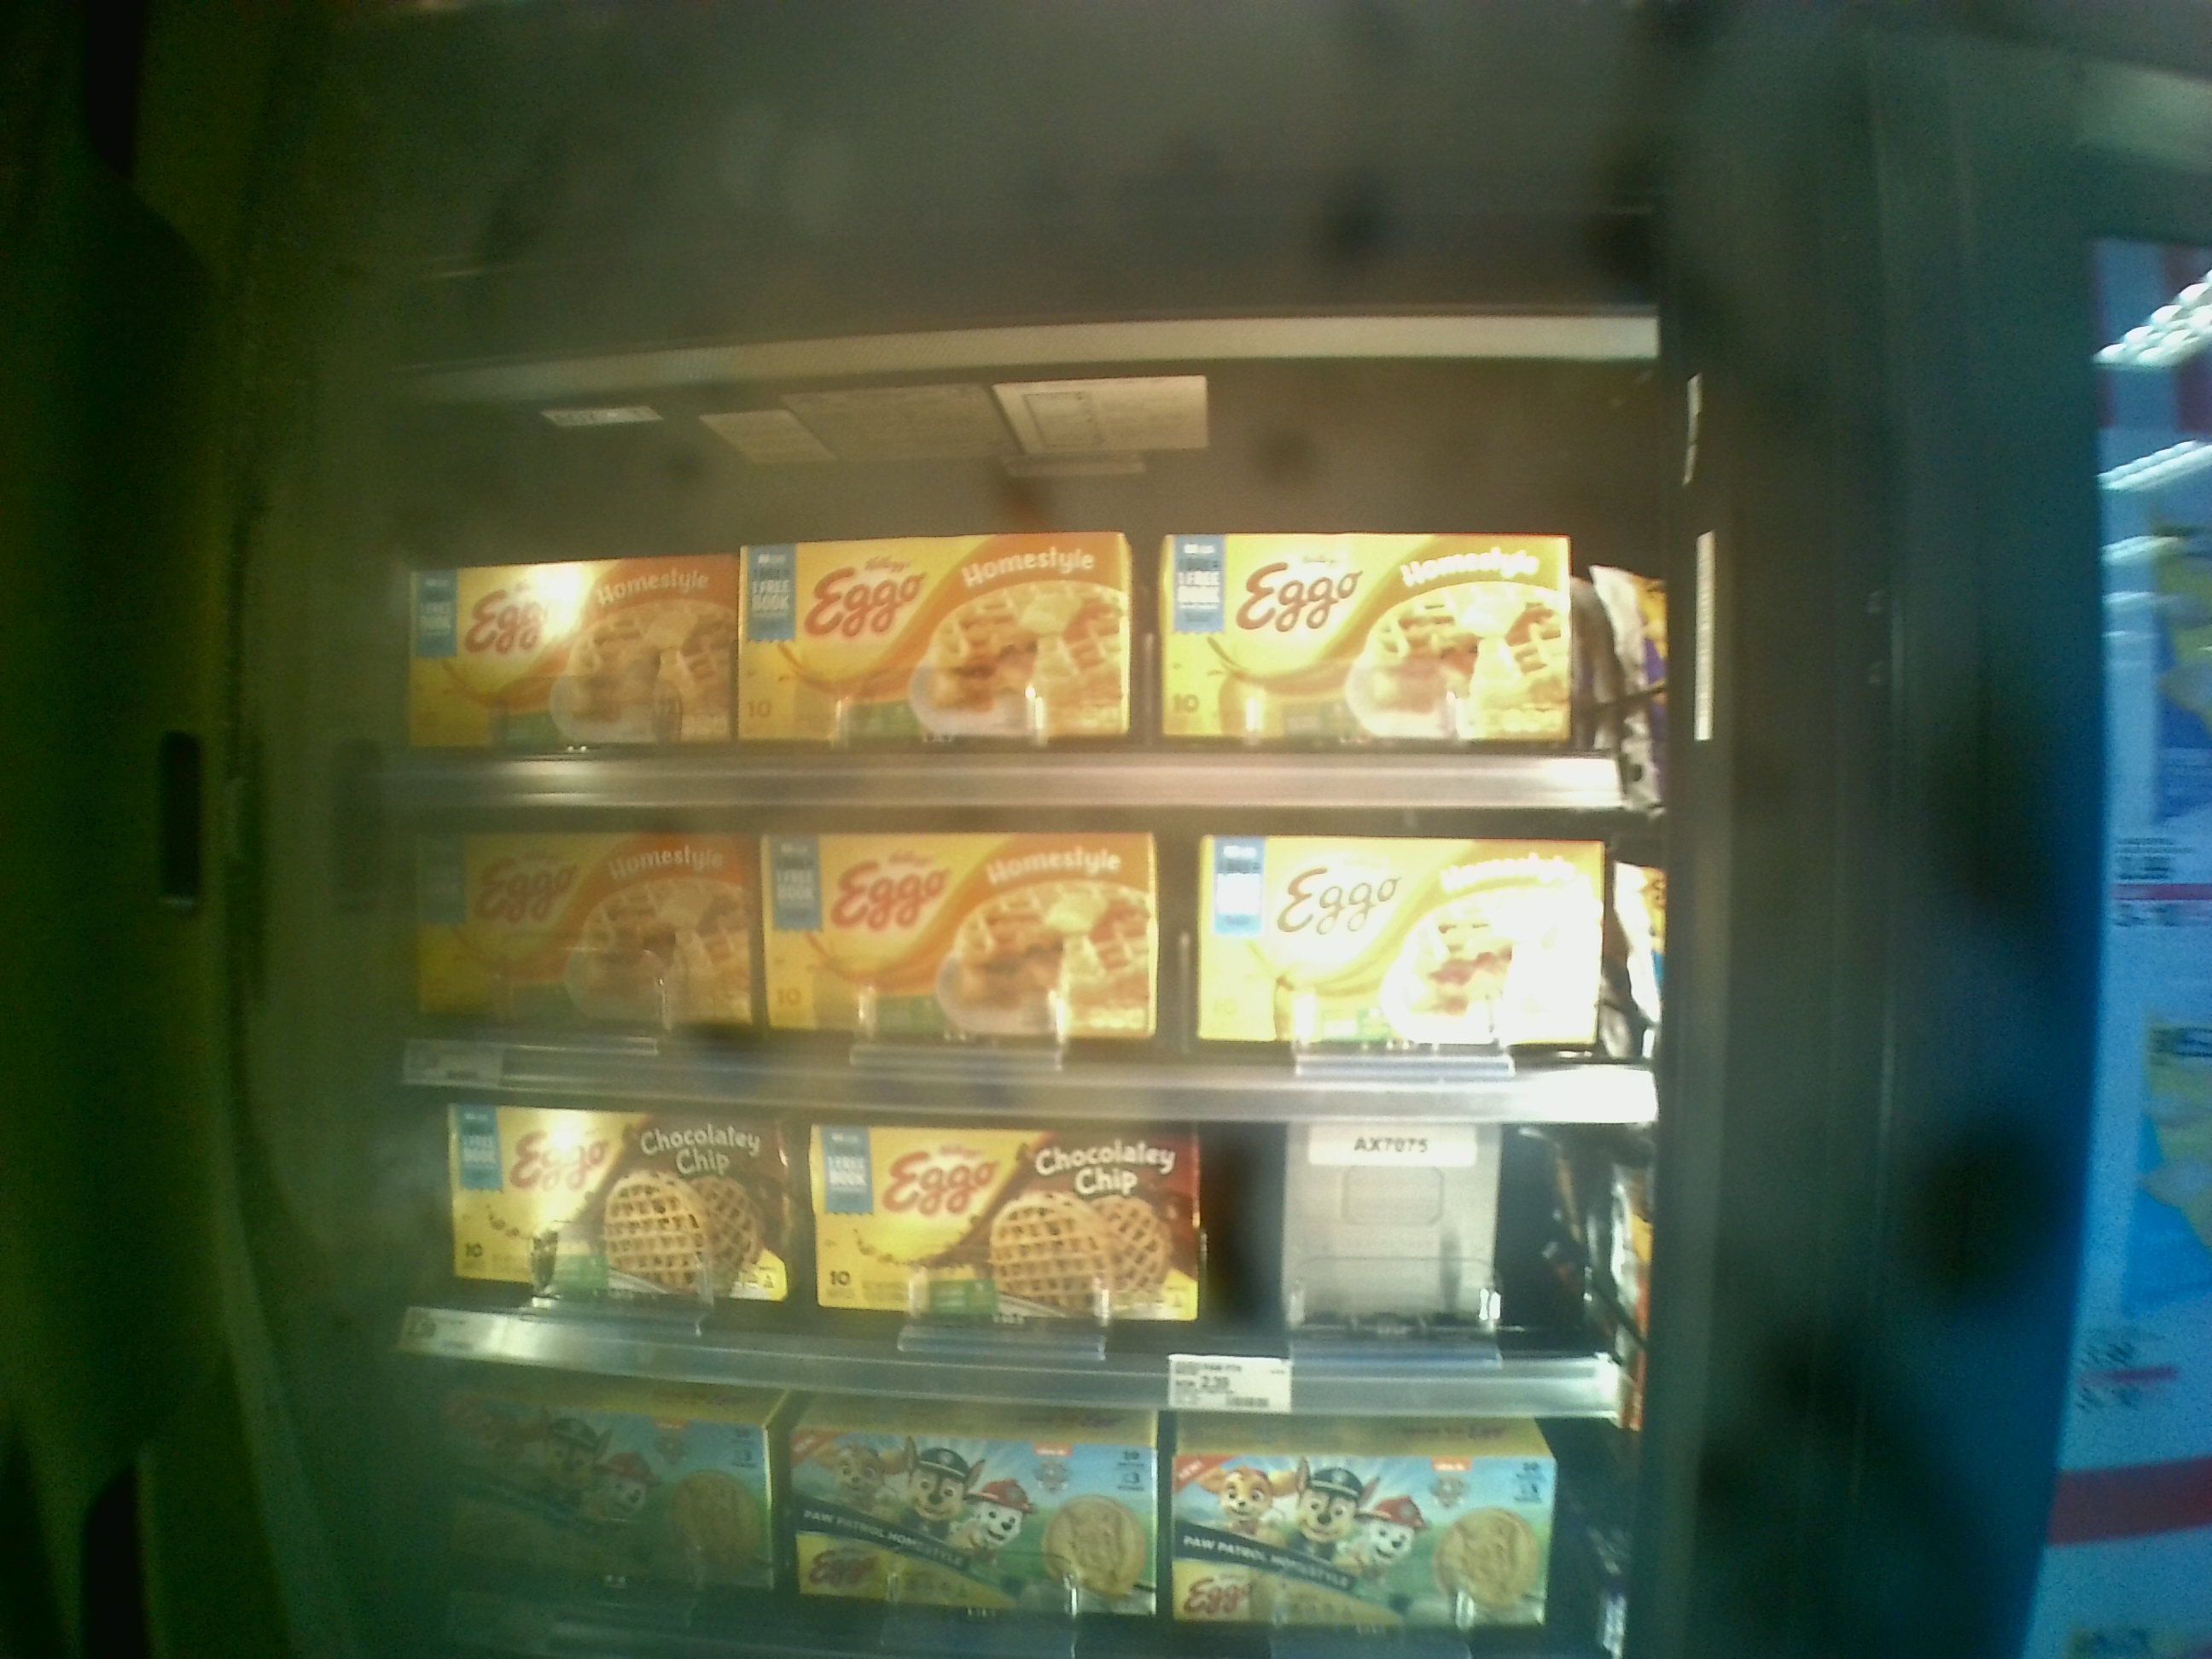shelf: (361, 413, 1639, 814), (395, 793, 1656, 1134), (395, 1101, 1616, 1425)
